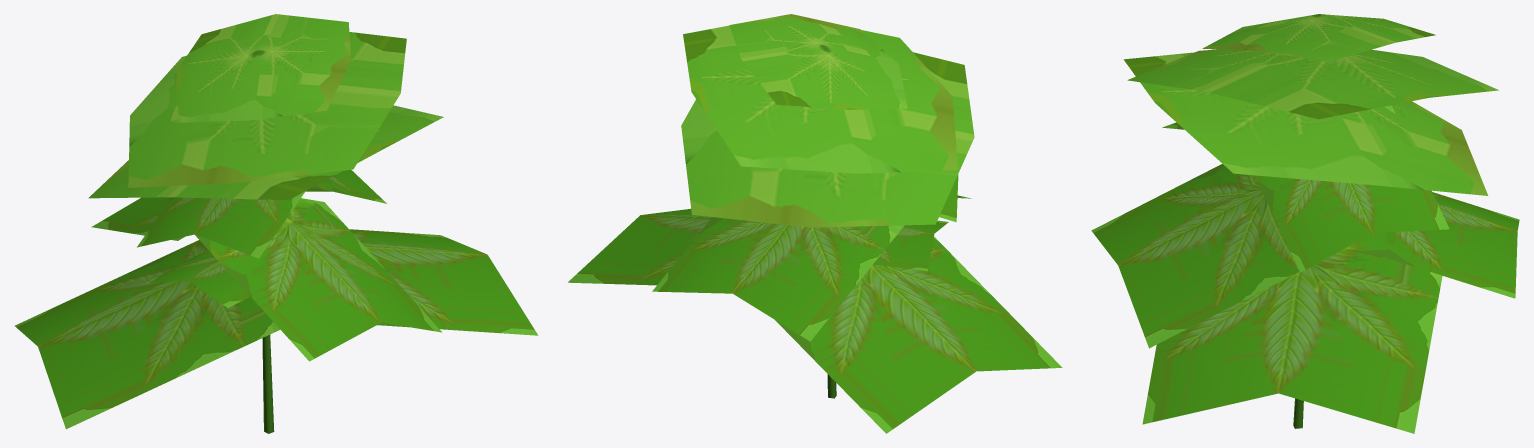
The model's file is CannabisStage02_04.fbx.
3 views of the same model, side by side, from view 1: azimuth 30°, elevation 25°; view 2: azimuth 150°, elevation 25°; view 3: azimuth 270°, elevation 25° (orthographic). The views are drawn at different scales.
Visible parts, largest first — view 1: CannabisStage02_04_LOD0; view 2: CannabisStage02_04_LOD0; view 3: CannabisStage02_04_LOD0.
Part boxes in pixels (x1,y1,x2,y2): CannabisStage02_04_LOD0: (14, 14, 538, 433); CannabisStage02_04_LOD0: (568, 14, 1062, 433); CannabisStage02_04_LOD0: (1091, 14, 1519, 433).
Size of what is drawn, in the model's own units: 76.41 by 61.53 by 57.5.
